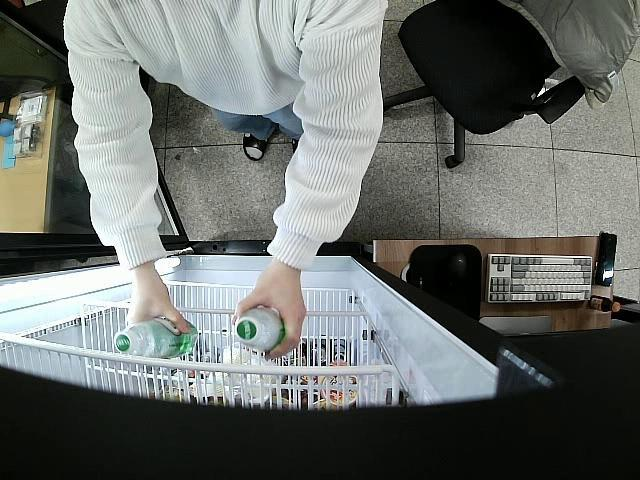18_trevi: (111, 318, 198, 364), (236, 308, 286, 351)
